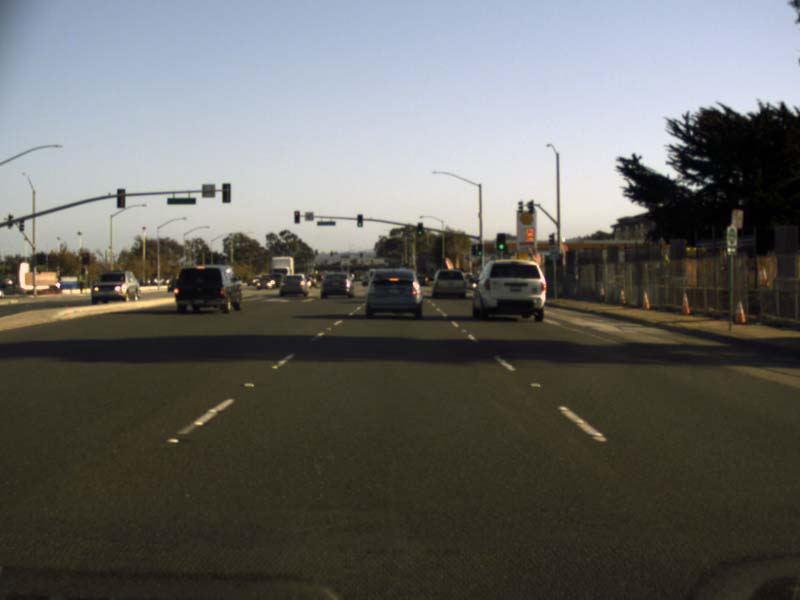Green: (497, 233, 506, 250), (416, 222, 423, 235), (357, 214, 362, 227), (477, 244, 482, 256)
Red: (293, 210, 299, 223)
